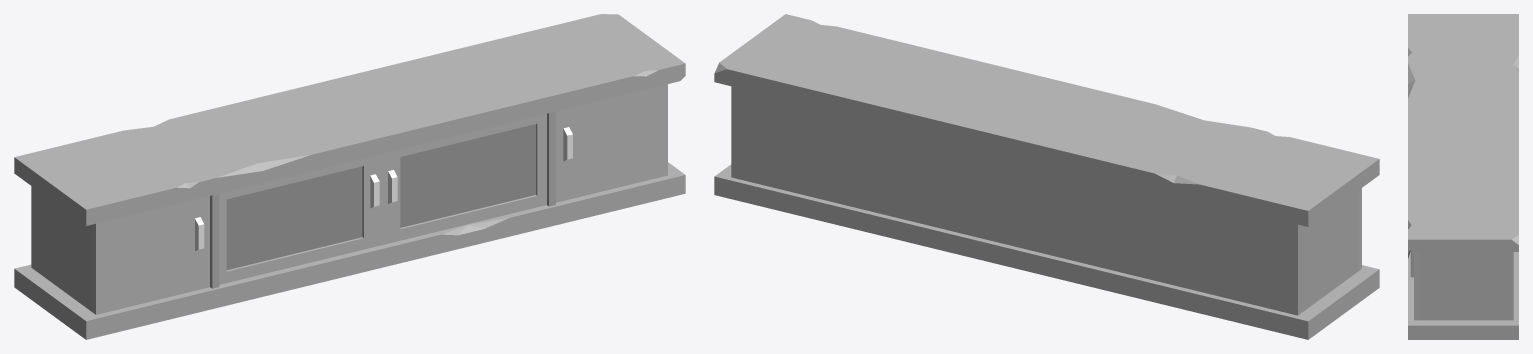
Rendered from SM_Prop_TVCabinet_01_Combined.obj.
3 views of the same model, side by side, from view 1: azimuth 30°, elevation 25°; view 2: azimuth 150°, elevation 25°; view 3: azimuth 270°, elevation 25° (orthographic). The views are drawn at different scales.
Parts seen in each view (by area): view 1: SM_Prop_TVCabinet_01_Combined_Mat_SwatchOverlay_PolygonTown_01_W, SM_Prop_TVCabinet_01_Combined_Mat_PolygonTown_Glass; view 2: SM_Prop_TVCabinet_01_Combined_Mat_SwatchOverlay_PolygonTown_01_W; view 3: SM_Prop_TVCabinet_01_Combined_Mat_SwatchOverlay_PolygonTown_01_W.
Part boxes in pixels (bbox=[...]): SM_Prop_TVCabinet_01_Combined_Mat_SwatchOverlay_PolygonTown_01_W: bbox=[14, 14, 685, 339]; SM_Prop_TVCabinet_01_Combined_Mat_PolygonTown_Glass: bbox=[226, 124, 535, 270]; SM_Prop_TVCabinet_01_Combined_Mat_SwatchOverlay_PolygonTown_01_W: bbox=[714, 14, 1379, 339]; SM_Prop_TVCabinet_01_Combined_Mat_SwatchOverlay_PolygonTown_01_W: bbox=[1408, 14, 1518, 339].
Size of the model in its own units: 2.89 by 0.6006 by 0.6006.
2 materials, 2 textured.
